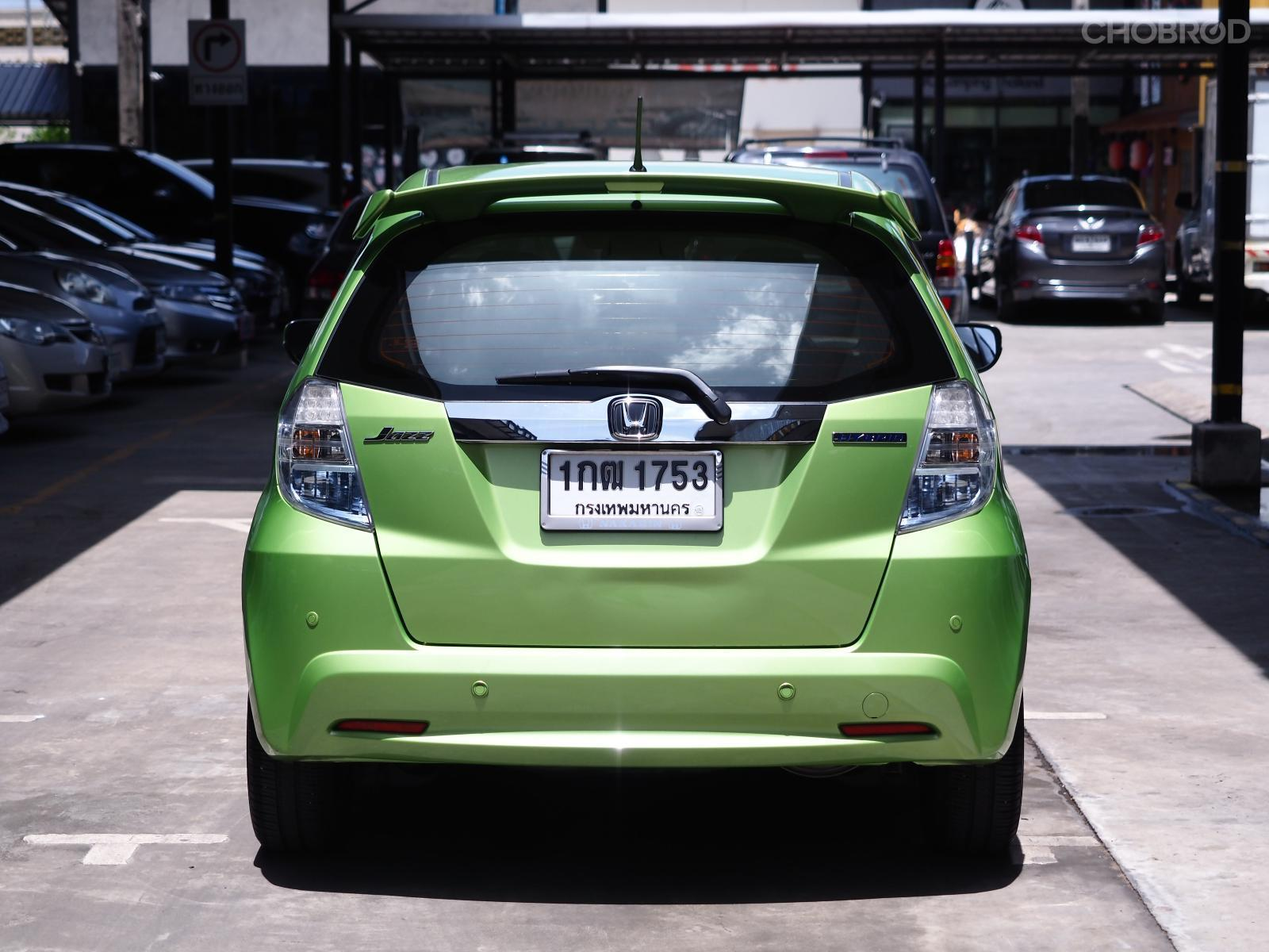license-plate: (529, 431, 733, 553)
